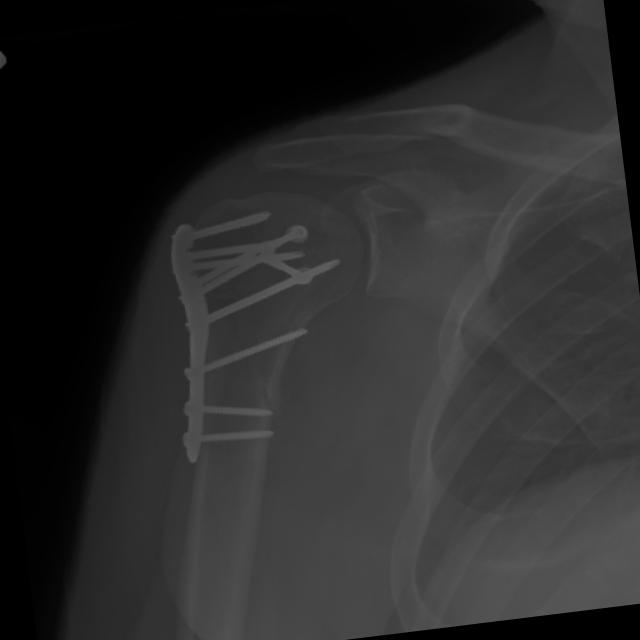shoulder fracture: (215, 341, 310, 442)
